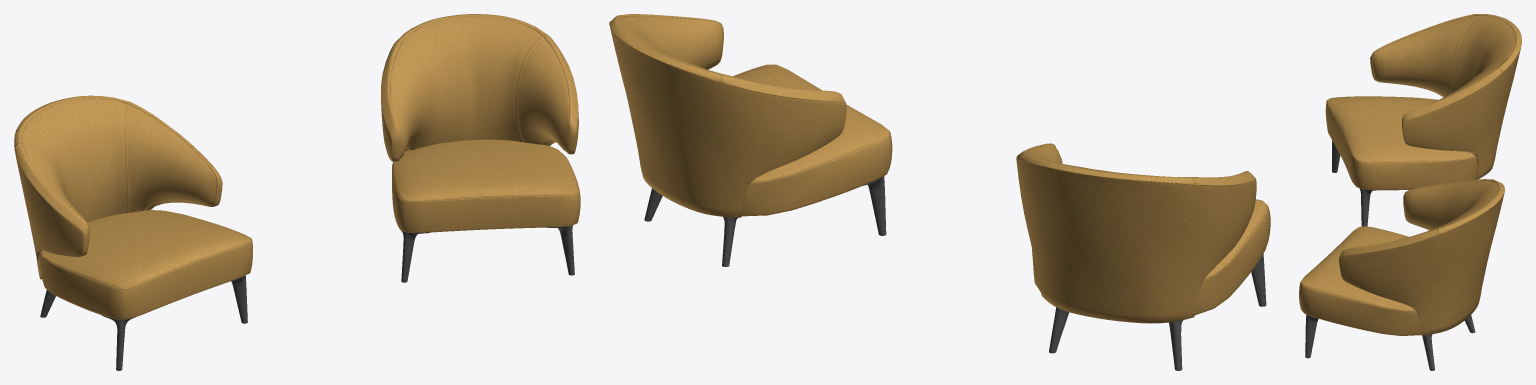
File: livingchairs.glb
3 views of the same model, side by side, from view 1: azimuth 30°, elevation 25°; view 2: azimuth 150°, elevation 25°; view 3: azimuth 270°, elevation 25° (orthographic). The views are drawn at different scales.
Visible parts, largest first — view 1: Armchair _02; view 2: Armchair _02; view 3: Armchair _02.
Part boxes in pixels (bbox=[...]): Armchair _02: bbox=[14, 14, 580, 370]; Armchair _02: bbox=[609, 14, 1270, 370]; Armchair _02: bbox=[1299, 14, 1521, 370].
Size of the model in its own units: 2.41 by 0.7991 by 1.03.
2 materials, 1 textured.
